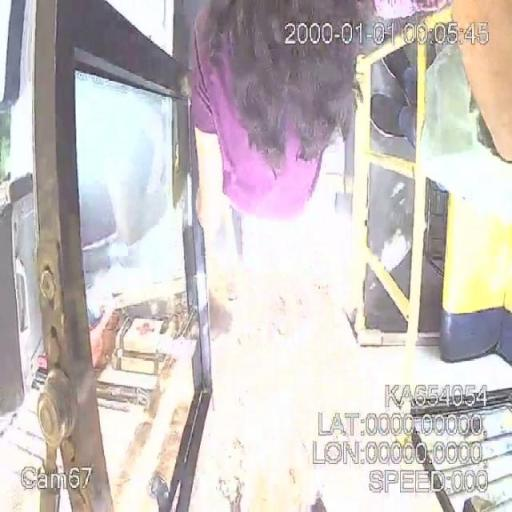persona: (190, 0, 370, 239)
